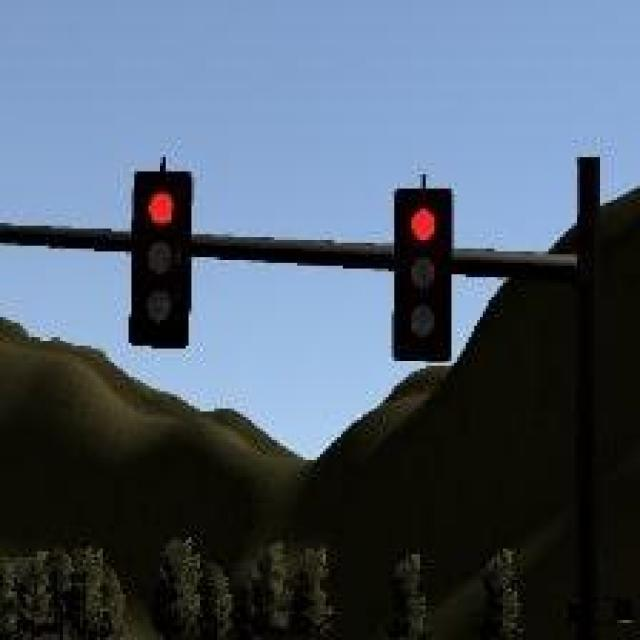red_light: (135, 174, 192, 348), (395, 189, 452, 360)
